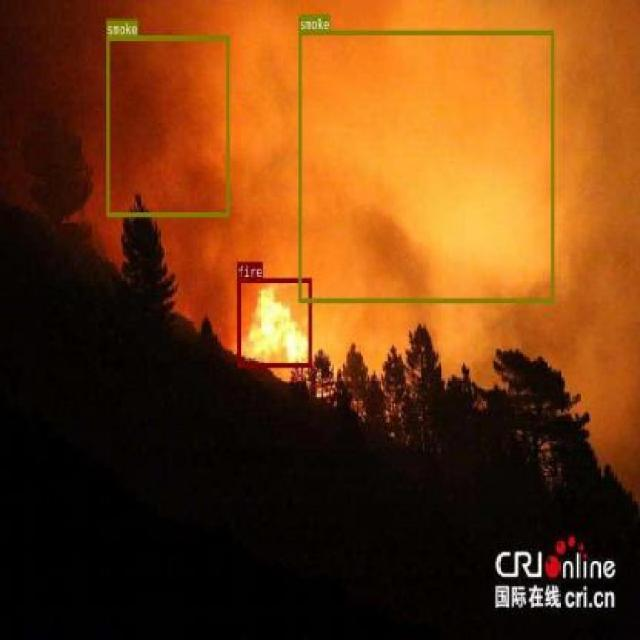Fire: (236, 277, 312, 366)
Smoke: (298, 30, 554, 302), (106, 35, 229, 216)
